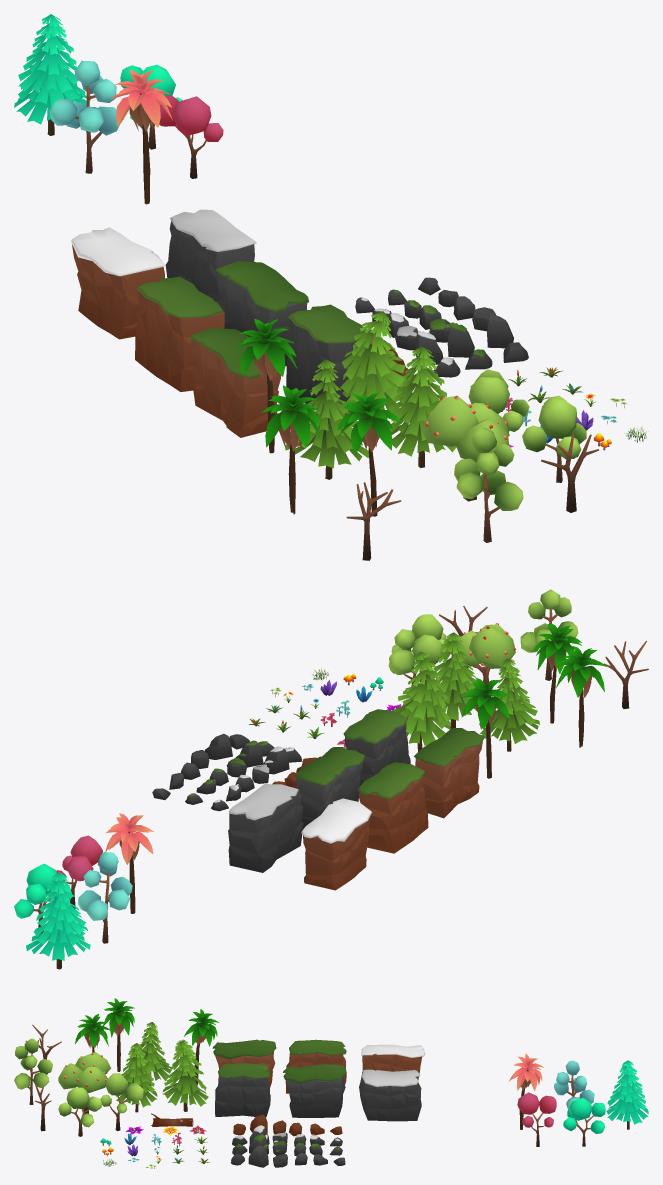
The model's file is low_poly_stylized_nature_pack.glb.
3 views of the same model, one above another, from view 1: azimuth 30°, elevation 25°; view 2: azimuth 150°, elevation 25°; view 3: azimuth 270°, elevation 25° (orthographic). The views are drawn at different scales.
Parts seen in each view (by area): view 1: ClifGg2, ClifGi1, ClifGg3, ClifBi1, ClifBg1, ClifBg2, TreeVC, TreeV2, TreeV1, TreeR3, TreeV3, TreeRF (+12 smaller); view 2: ClifBi1, ClifGi1, ClifGg2, ClifGg3, ClifBg1, TreeV2, TreeVC, ClifBg2, TreeV3, TreeV1, TreeRC3, TreeRF (+10 smaller); view 3: ClifBi1, ClifBg1, ClifBg2, TreeV2, TreeVC, ClifGi1, ClifGg3, TreeRF, ClifGg2, TreeV1, TreeR3, TreeRC1 (+11 smaller).
Part boxes in pixels (x1=…): ClifGg2: x1=135, y1=276, x2=224, y2=391; ClifGi1: x1=71, y1=227, x2=164, y2=339; ClifGg3: x1=189, y1=328, x2=280, y2=437; ClifBi1: x1=165, y1=209, x2=256, y2=302; ClifBg1: x1=216, y1=261, x2=308, y2=366; ClifBg2: x1=286, y1=304, x2=371, y2=414; TreeVC: x1=14, y1=14, x2=90, y2=135; TreeV2: x1=340, y1=311, x2=411, y2=434; TreeV1: x1=389, y1=346, x2=456, y2=467; TreeR3: x1=454, y1=428, x2=523, y2=542; TreeV3: x1=285, y1=359, x2=368, y2=479; TreeRF: x1=421, y1=395, x2=509, y2=501; ClifBi1: x1=228, y1=784, x2=303, y2=872; ClifGi1: x1=301, y1=798, x2=371, y2=890; ClifGg2: x1=357, y1=762, x2=428, y2=853; ClifGg3: x1=414, y1=728, x2=484, y2=818; ClifBg1: x1=294, y1=747, x2=365, y2=829; TreeV2: x1=393, y1=651, x2=450, y2=751; TreeVC: x1=26, y1=872, x2=90, y2=969; ClifBg2: x1=343, y1=709, x2=410, y2=785; TreeV3: x1=479, y1=658, x2=540, y2=751; TreeV1: x1=433, y1=632, x2=477, y2=728; TreeRC3: x1=77, y1=852, x2=132, y2=943; TreeRF: x1=450, y1=623, x2=515, y2=697; ClifBi1: x1=359, y1=1069, x2=421, y2=1121; ClifBg1: x1=283, y1=1064, x2=346, y2=1117; ClifBg2: x1=215, y1=1063, x2=270, y2=1116; TreeV2: x1=162, y1=1039, x2=208, y2=1111; TreeVC: x1=606, y1=1060, x2=648, y2=1129; ClifGi1: x1=361, y1=1044, x2=425, y2=1079; ClifGg3: x1=212, y1=1039, x2=276, y2=1087; TreeRF: x1=58, y1=1052, x2=111, y2=1113; ClifGg2: x1=285, y1=1039, x2=346, y2=1093; TreeV1: x1=116, y1=1043, x2=157, y2=1112; TreeR3: x1=14, y1=1038, x2=52, y2=1104; TreeRC1: x1=563, y1=1097, x2=605, y2=1146.
Bounding box in the file's own units: 3651 × 1157 × 9075.
Materials: 1 (1 with a texture image).
